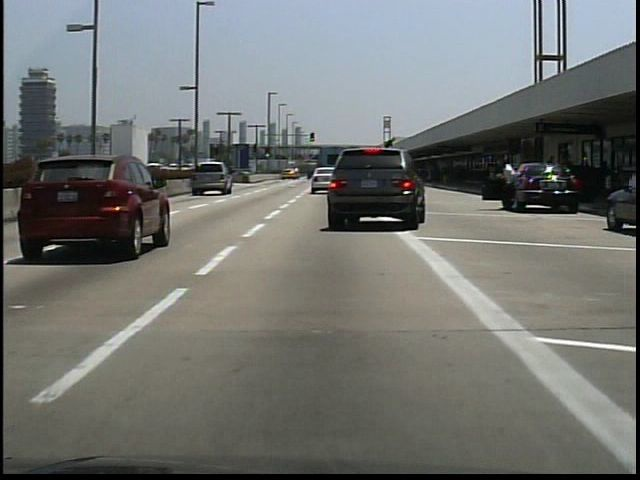person: (497, 154, 518, 214)
